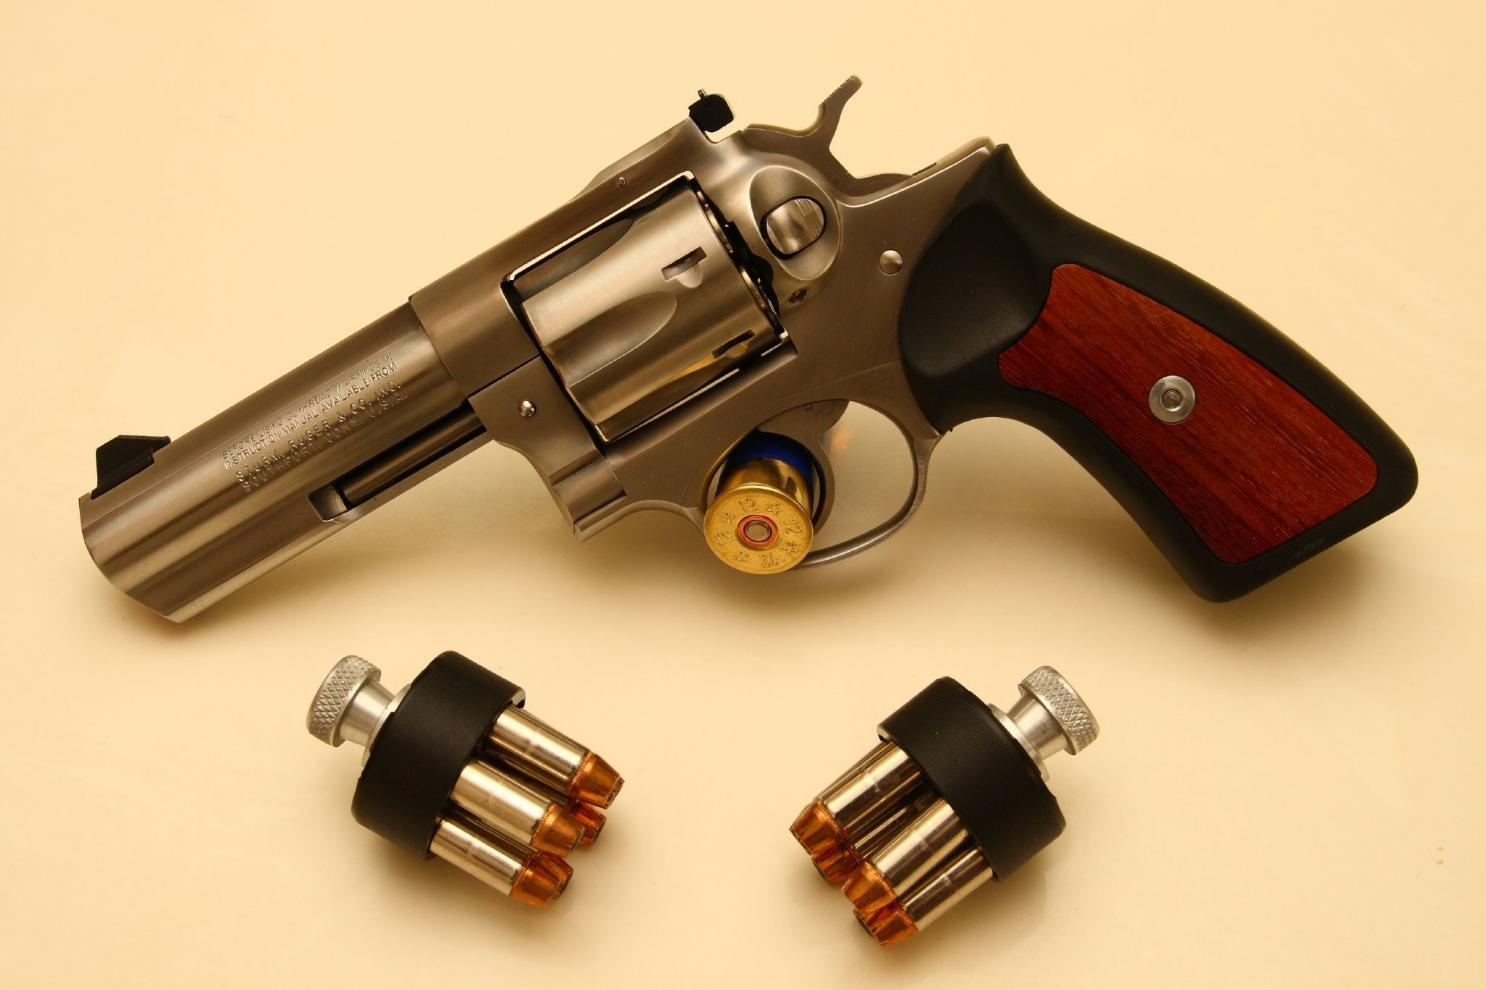Revolver: (23, 19, 1437, 661)
